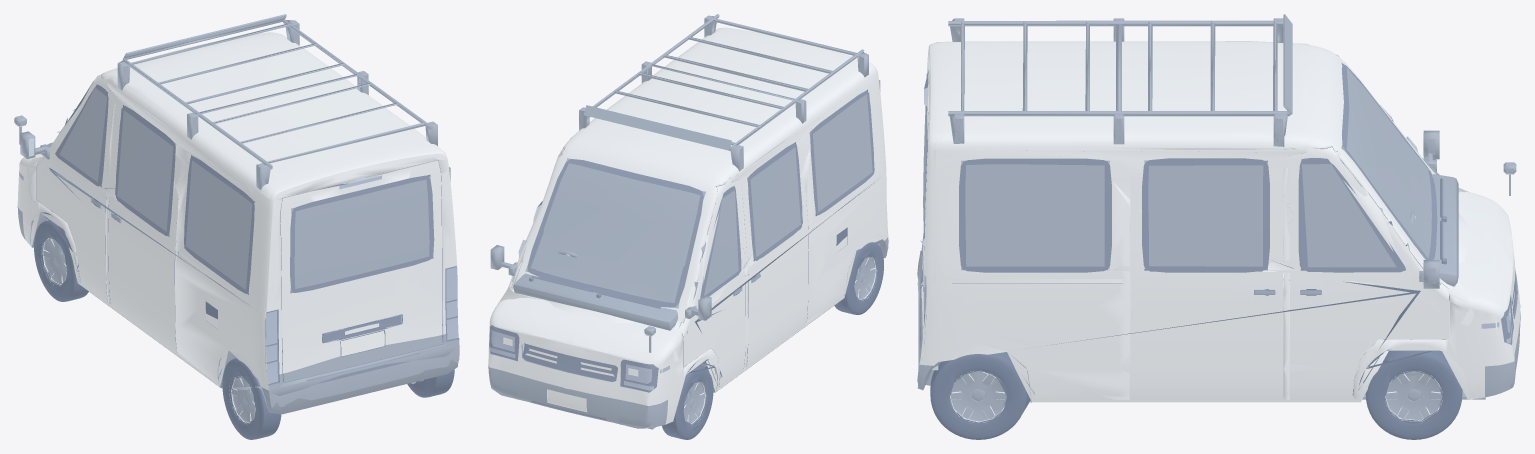
File: delivery.glb
3 renders of one model, left to right at view 1: azimuth 30°, elevation 25°; view 2: azimuth 150°, elevation 25°; view 3: azimuth 270°, elevation 25°, orthographic. The views are drawn at different scales.
Parts seen in each view (by area): view 1: near_body_mesh, street_body_mesh, street_body_glass_mesh, near_body_glass_mesh, far_body_mesh, near_wheel_rl_mesh, near_wheel_fl_mesh, near_wheel_rr_mesh; view 2: near_body_mesh, street_body_glass_mesh, near_body_glass_mesh, street_body_mesh, far_body_mesh, near_wheel_fl_mesh, near_wheel_rl_mesh, street_door_mesh; view 3: near_body_mesh, street_body_glass_mesh, street_body_mesh, near_door_mesh, near_body_glass_mesh, street_door_glass_mesh, near_wheel_rr_mesh, near_wheel_fr_mesh, far_body_mesh, street_door_mesh, far_door_mesh.
Part boxes in pixels (x1,y1,x2,y2): near_body_mesh: (14,14,459,411); street_body_mesh: (18,16,458,438); street_body_glass_mesh: (59,87,251,289); near_body_glass_mesh: (168,147,429,288); far_body_mesh: (31,20,458,425); near_wheel_rl_mesh: (222,358,281,439); near_wheel_fl_mesh: (34,220,88,301); near_wheel_rr_mesh: (407,369,454,397); near_body_mesh: (488,14,888,429); street_body_glass_mesh: (531,94,872,303); near_body_glass_mesh: (536,94,871,302); street_body_mesh: (493,16,886,438); far_body_mesh: (492,16,887,433); near_wheel_fl_mesh: (662,365,713,439); near_wheel_rl_mesh: (834,242,883,314); street_door_mesh: (490,153,560,275); near_body_mesh: (917,14,1520,399); street_body_glass_mesh: (924,77,1431,266); street_body_mesh: (917,19,1520,434); near_door_mesh: (1290,147,1448,399); near_body_glass_mesh: (923,68,1431,263); street_door_glass_mesh: (1302,164,1396,267); near_wheel_rr_mesh: (930,352,1026,439); near_wheel_fr_mesh: (1365,351,1462,439); far_body_mesh: (920,19,1513,434); street_door_mesh: (1269,146,1440,369); far_door_mesh: (1300,162,1440,350).
Size of the model in its own units: 1.78 by 2.03 by 3.4.
